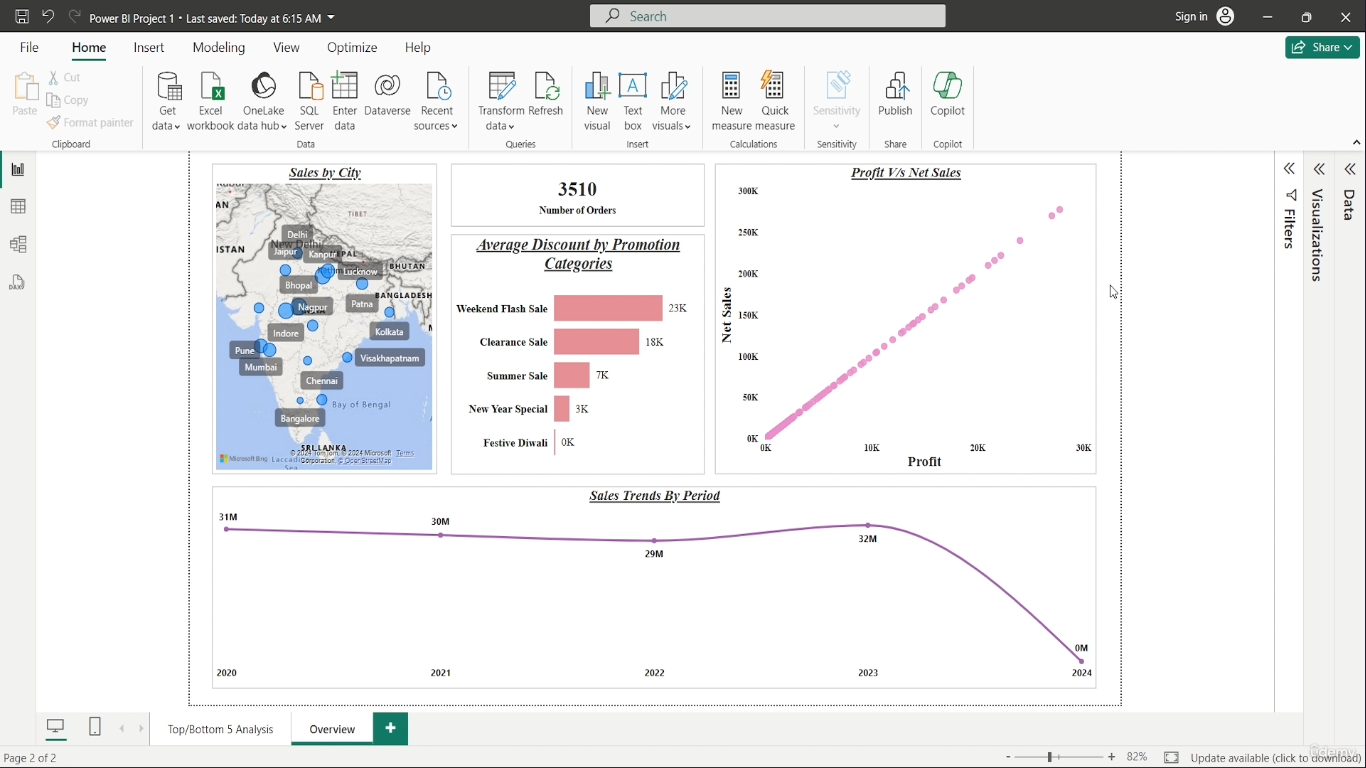

What the dashboard file says about the page in this screenshot:
{"tool":"powerbi","page":{"name":"Overview","canvas":[1280,720],"ordinal":0},"visuals":[{"type":"lineChart","title":"Sales trends by Period","fields":{"Category":["Fact table.Date (dd/mm/yyyy).Variation.Date Hierarchy.Year"],"Y":["Sum(Fact table.Net Sales)"]},"box":[0,404.5,1269.8,315.5],"z":0},{"type":"scatterChart","title":"Net Sales V/s profit","fields":{"X":["Fact table.profit"],"Y":["Fact table.Net Sales"]},"box":[868.7,0,401.5,404.5],"z":1000},{"type":"barChart","title":"Average  Discount  by Promotion categories","fields":{"Y":["Avg(Fact table.Discount Value)"],"Category":["Dim Promotion.Promotion Name"]},"box":[450.3,151.9,418.9,252.7],"z":2000},{"type":"cardVisual","title":"Number of Orders","fields":{"Data":["Count(Fact table.Order ID)"]},"box":[450.7,0,417.9,152.2],"z":3000},{"type":"map","title":"Sales by City","fields":{"Category":["Dim Customers.City"],"Size":["Sum(Fact table.Net Sales)"]},"box":[0,0,450.3,404.5],"z":4000}]}

Visuals, with their boxes on the page's 1280x720 design canvas (x1, y1, x2, y2). These are canvas units, not pixel positions in the 1366x768 screenshot, which may show the page scaled, cropped or inside an application window:
"Sales trends by Period" lineChart: [0,404,1270,720]
"Net Sales V/s profit" scatterChart: [869,0,1270,404]
"Average  Discount  by Promotion categories" barChart: [450,152,869,405]
"Number of Orders" cardVisual: [451,0,869,152]
"Sales by City" map: [0,0,450,404]
